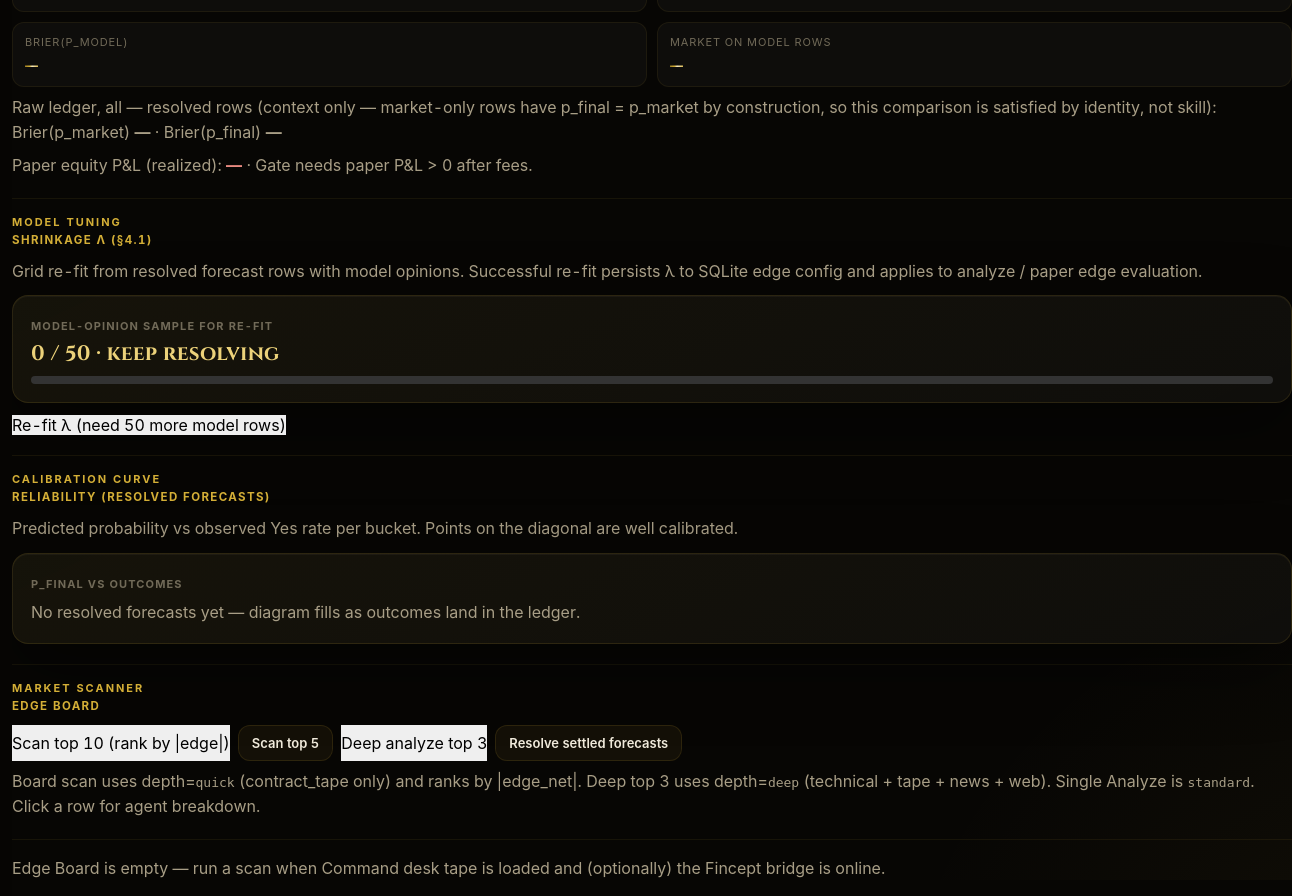
Scenario: CalibrationView › resolve settled forecasts refreshes report after IPC
(page scrolled)
What coordinates should you click on to do the following:
click the button "Resolve settled forecasts"
I would click on:
 (589, 743)
Its box is [495, 725, 682, 761].
(page scrolled)
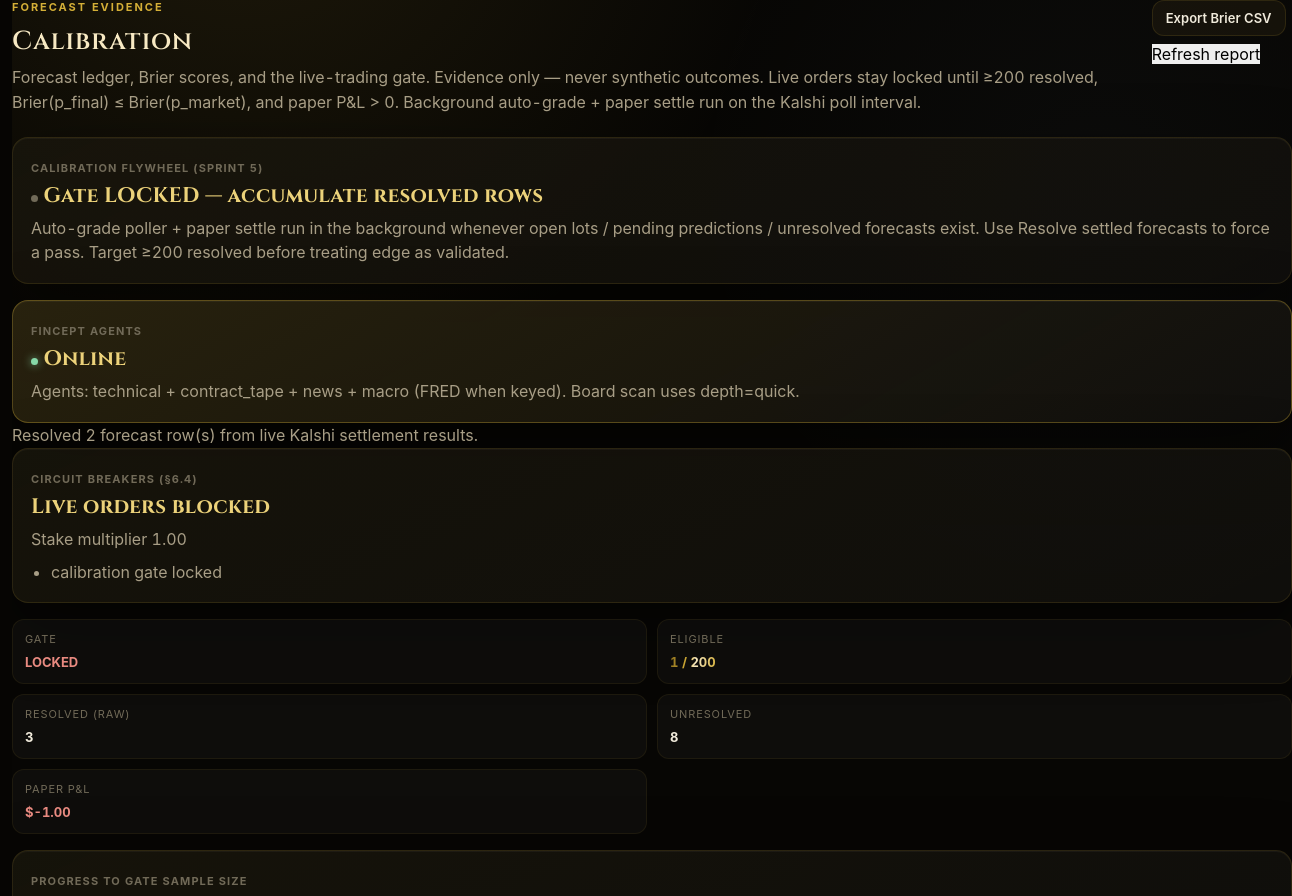
Result: the text "Resolved 2 forecast row" is shown at [12, 425, 478, 445]
